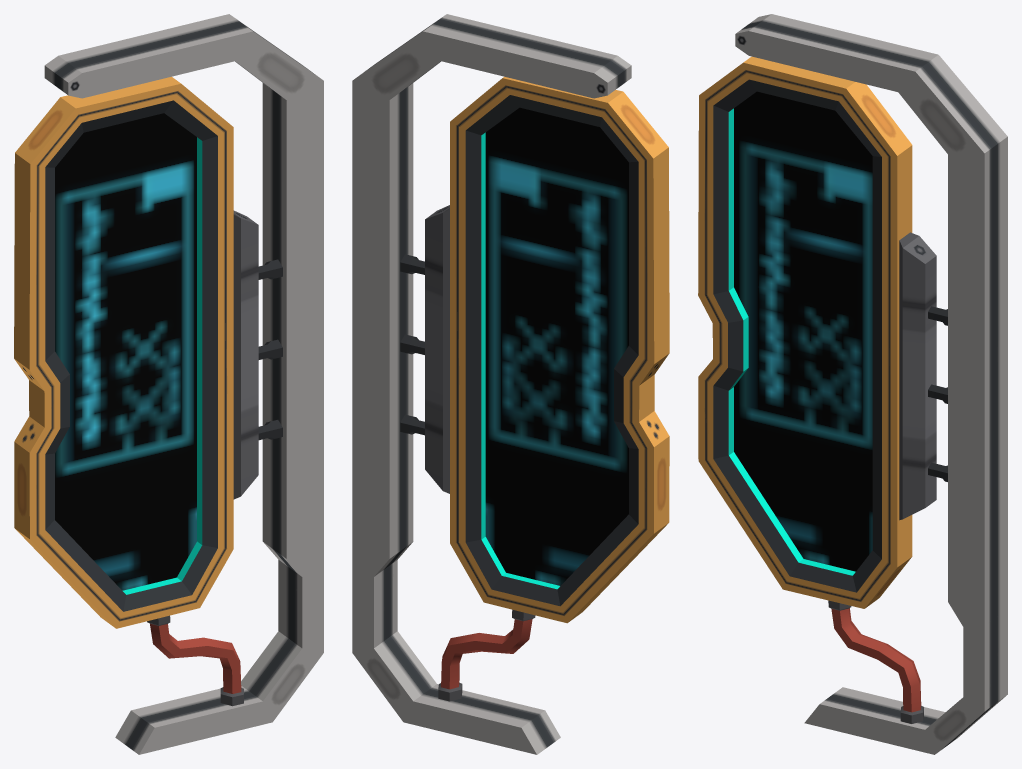
The model's file is SM_Prop_Monitor_02.fbx.
3 views of the same model, side by side, from view 1: azimuth 30°, elevation 25°; view 2: azimuth 150°, elevation 25°; view 3: azimuth 330°, elevation 25° (orthographic). The views are drawn at different scales.
Parts seen in each view (by area): view 1: SM_Prop_Monitor_02; view 2: SM_Prop_Monitor_02; view 3: SM_Prop_Monitor_02.
Part boxes in pixels (left/top/right/bottom): SM_Prop_Monitor_02: left=14, top=14, right=323, bottom=754; SM_Prop_Monitor_02: left=352, top=14, right=669, bottom=754; SM_Prop_Monitor_02: left=698, top=14, right=1007, bottom=754.
Bounding box in the file's own units: 52.23 × 118 × 7.45.
